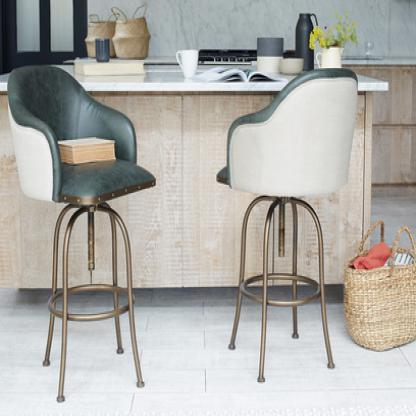chair: (0, 53, 159, 416), (208, 59, 369, 384)
table: (0, 63, 393, 307)
